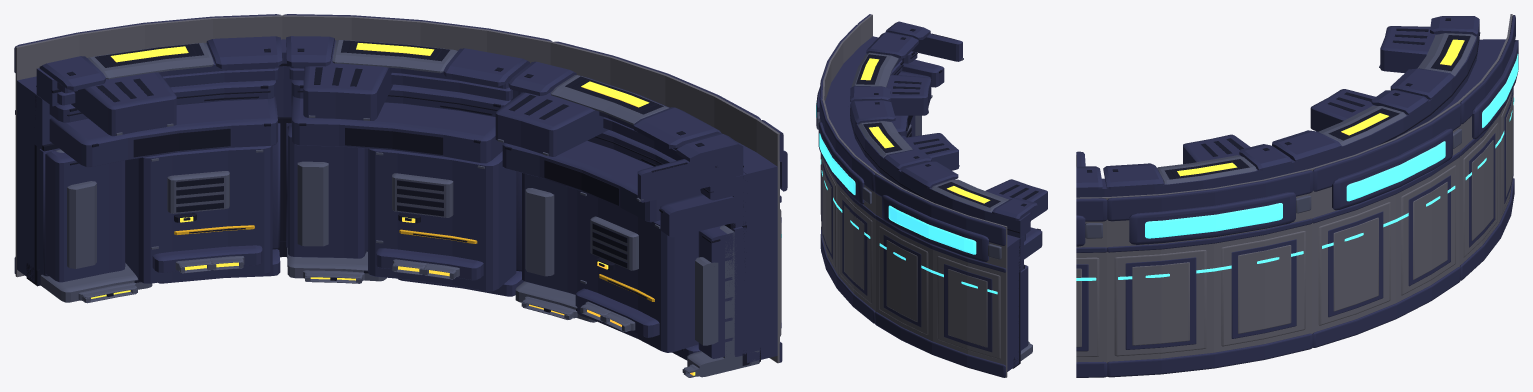
File: hull.arc2c.a.glb
3 views of the same model, side by side, from view 1: azimuth 30°, elevation 25°; view 2: azimuth 150°, elevation 25°; view 3: azimuth 270°, elevation 25° (orthographic). The views are drawn at different scales.
Visible parts, largest first — view 1: GEO-hull.arc2c.a; view 2: GEO-hull.arc2c.a; view 3: GEO-hull.arc2c.a.
Boxes of the visible parts, x1=… form: GEO-hull.arc2c.a: x1=14, y1=14, x2=787, y2=377; GEO-hull.arc2c.a: x1=816, y1=14, x2=1047, y2=377; GEO-hull.arc2c.a: x1=1076, y1=14, x2=1518, y2=377.
Bounding box in the file's own units: 2.25 × 1 × 2.24.
